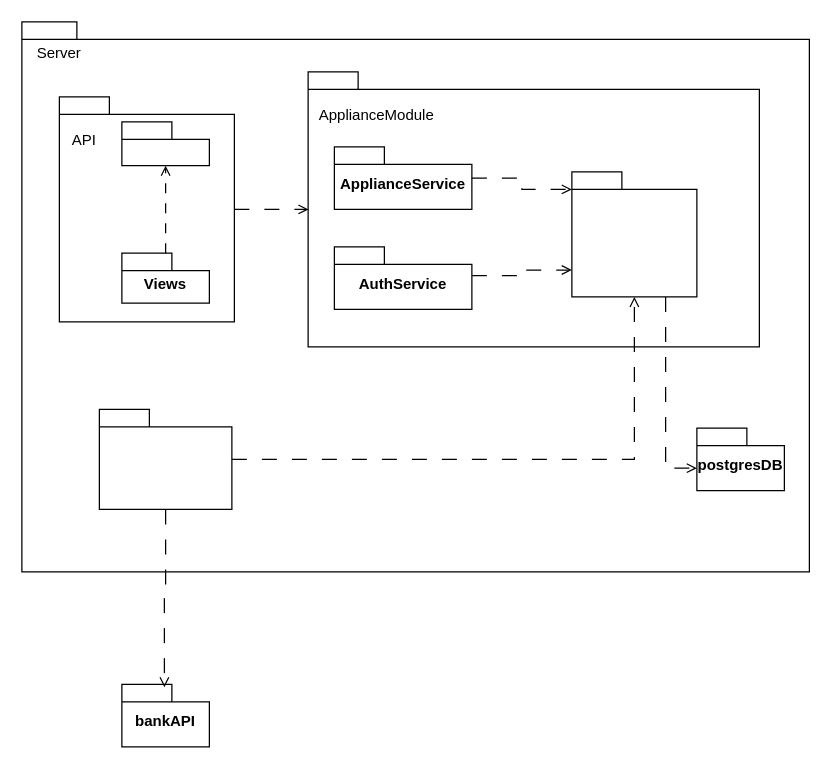
The diagram is 831 pixels wide and 769 high, and some of its shapes have lost their labels. The centre of each missing label's shape, as x and y in pixels:
"BankModule" belongs at (x=165, y=458).
"models" belongs at (x=634, y=234).
"Serializers" belongs at (x=165, y=143).
